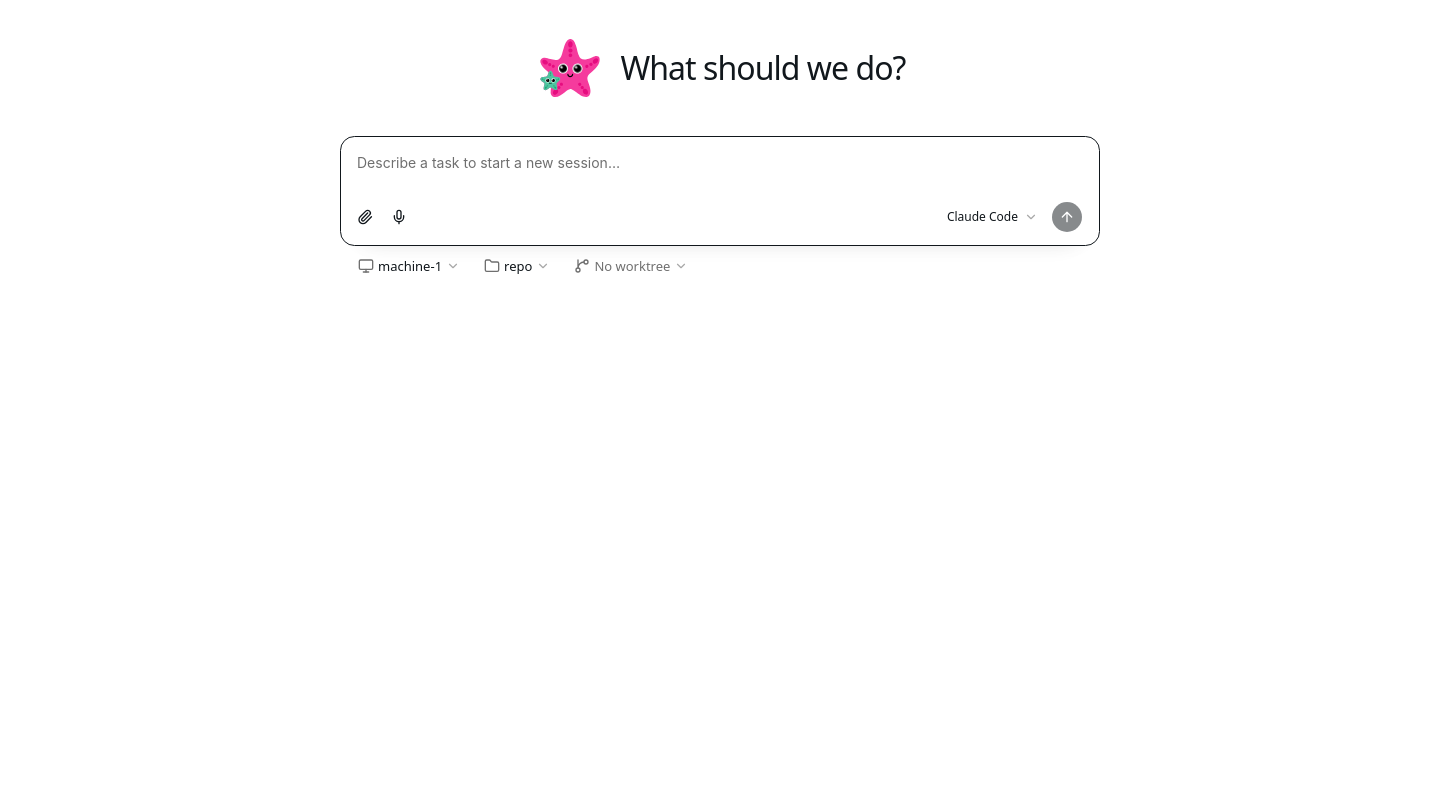
Scenario: NewChatLandingScreen › shows a conflict banner in the file browser for an occupied directory
The image size is (1440, 810).
Step 1. Click the button with test id "new-chat-landing-workspace-chip" → (517, 266), box x1=474 y1=254 x2=560 y2=278
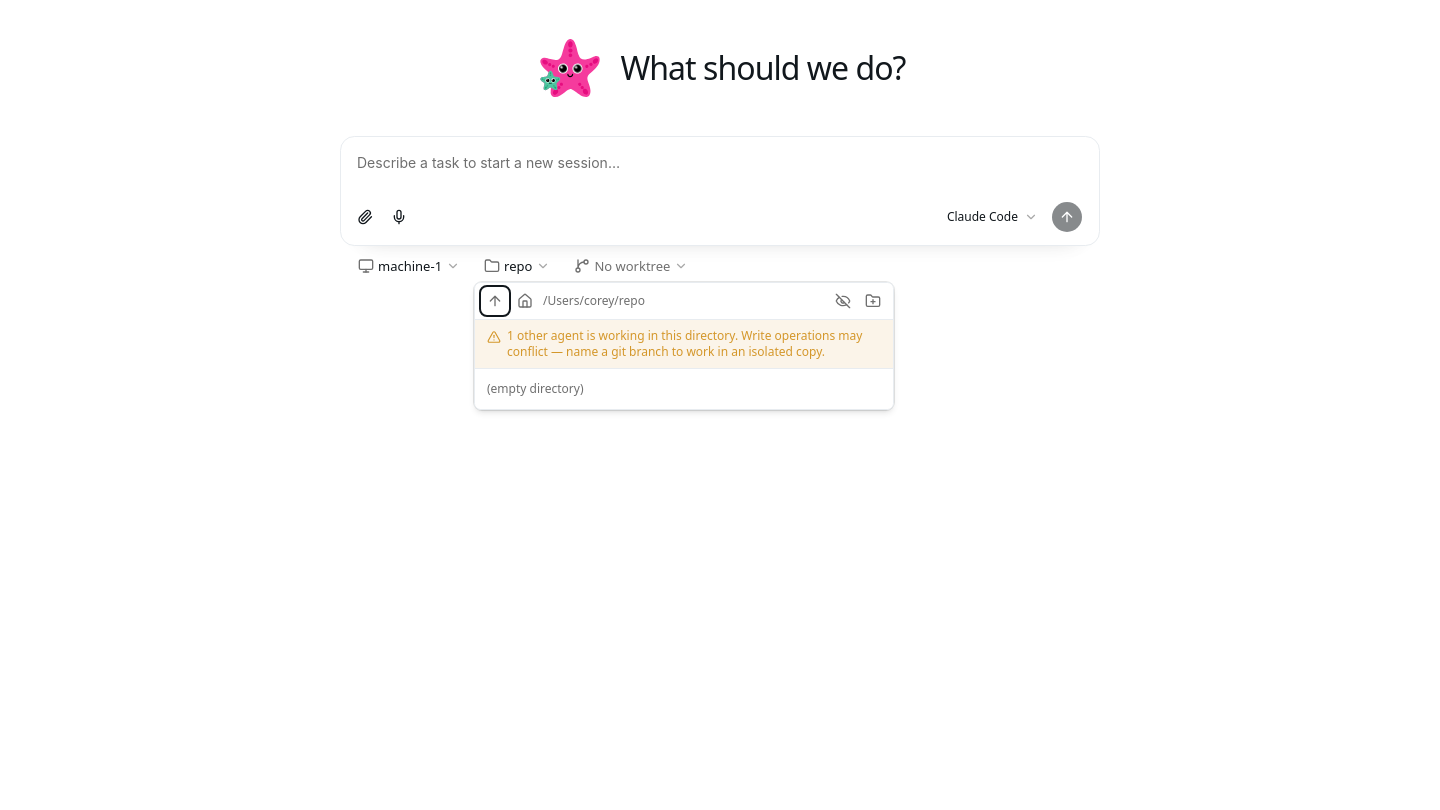
Expected: the element with test id "workspace-picker-conflict" shows "1 other agent is", x1=507 y1=327 x2=595 y2=344
